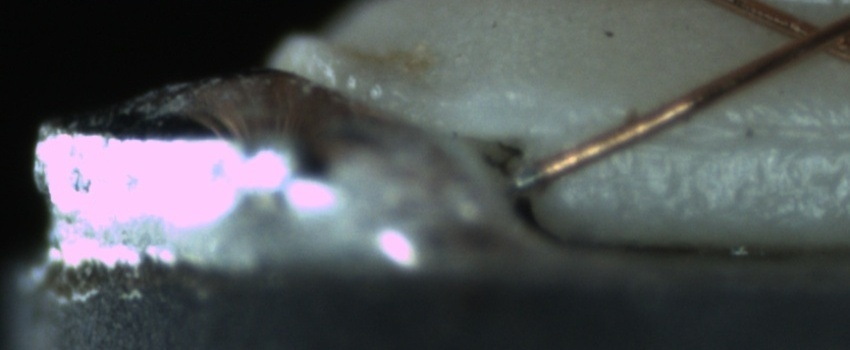CL: (767, 4, 848, 64)
DL: (616, 102, 845, 170)
TS: (513, 165, 545, 193)
